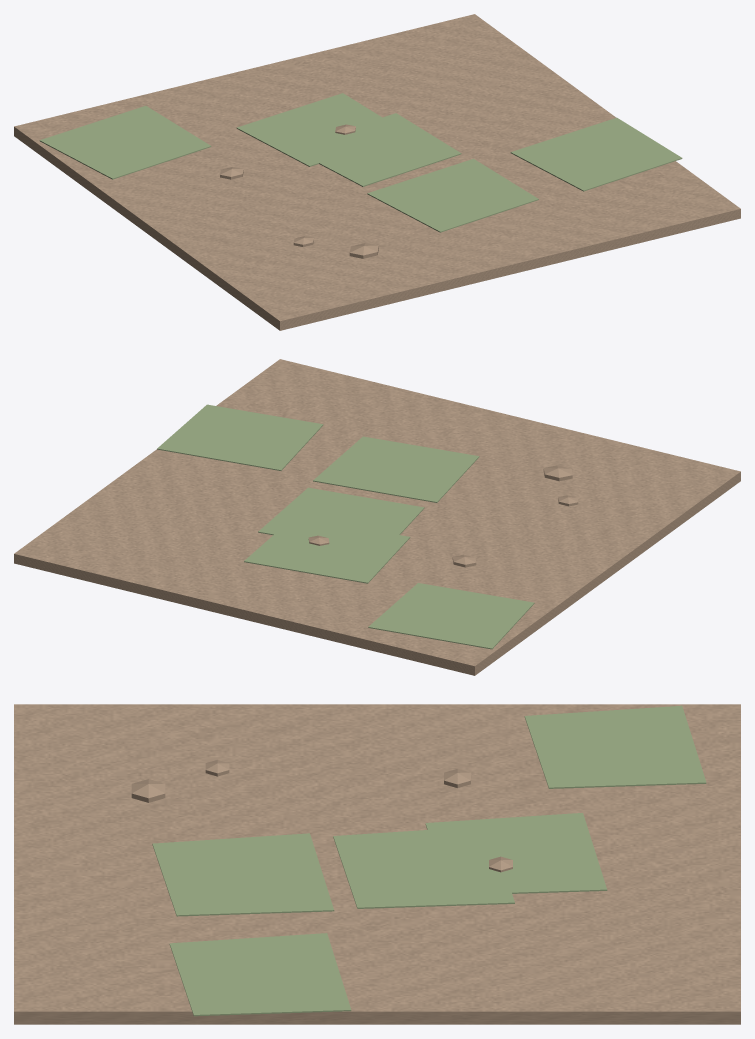
File: safari-camp-and-bush-lodge-savanna-ground-module-17268da3__37705.glb
3 views of the same model, one above another, from view 1: azimuth 30°, elevation 25°; view 2: azimuth 150°, elevation 25°; view 3: azimuth 270°, elevation 25° (orthographic). The views are drawn at different scales.
Visible parts, largest first — view 1: savanna-ground-module-earth, savanna-ground-module-scrub; view 2: savanna-ground-module-earth, savanna-ground-module-scrub; view 3: savanna-ground-module-earth, savanna-ground-module-scrub.
Part boxes in pixels (left/top/right/bottom): savanna-ground-module-earth: left=14, top=14, right=740, bottom=330; savanna-ground-module-scrub: left=39, top=93, right=682, bottom=232; savanna-ground-module-earth: left=14, top=359, right=740, bottom=675; savanna-ground-module-scrub: left=157, top=404, right=534, bottom=649; savanna-ground-module-earth: left=14, top=704, right=740, bottom=1024; savanna-ground-module-scrub: left=152, top=705, right=706, bottom=1016.
Size of the model in its own units: 6.09 by 0.2044 by 6.
Materials: 2 (1 with a texture image).
